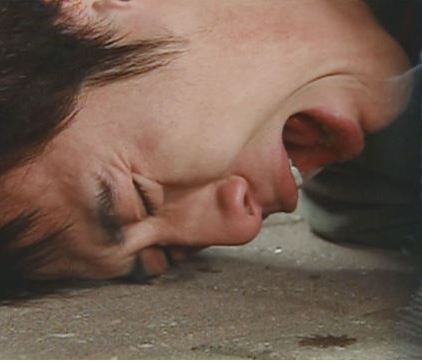sad: (47, 23, 405, 290)
